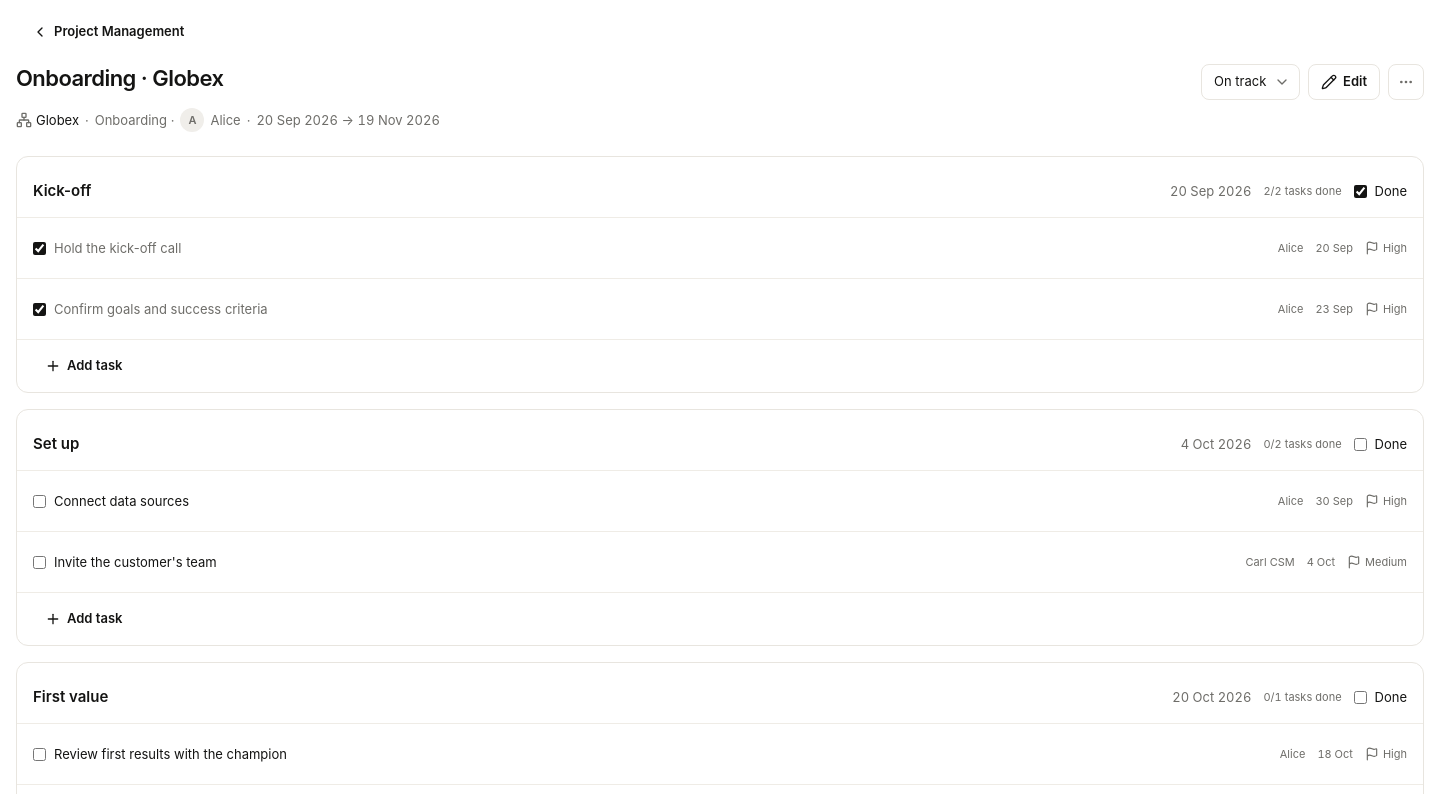
it: a plan (spec §2.3) › changes the status from the select, and shows the server's refusal
Expected: the heading "Plan" is not shown
Select "At risk" in the dropdown named "Status": (1250, 82) [1201, 64, 1300, 100]
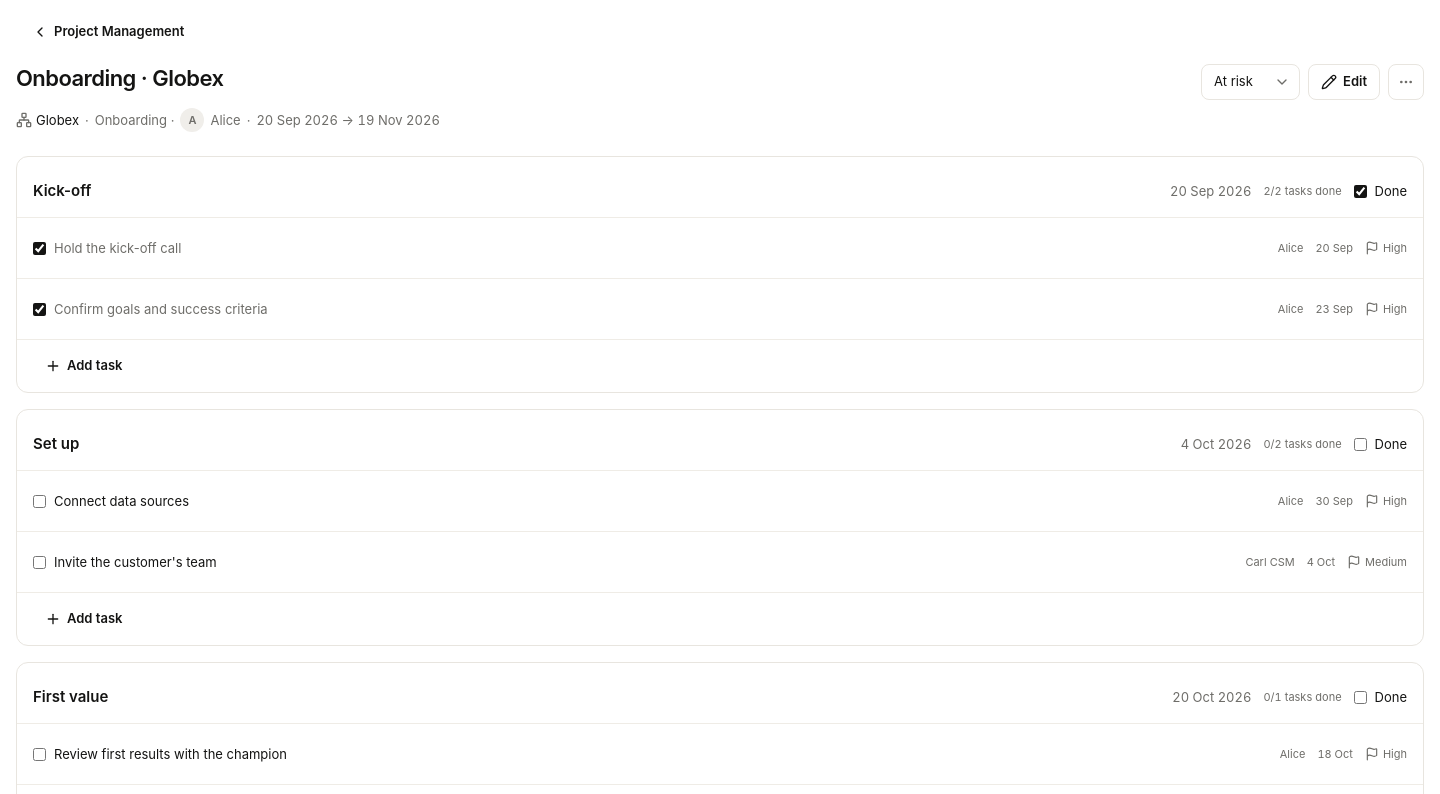
Select "On track" in the dropdown named "Status": (1250, 82) [1201, 64, 1300, 100]
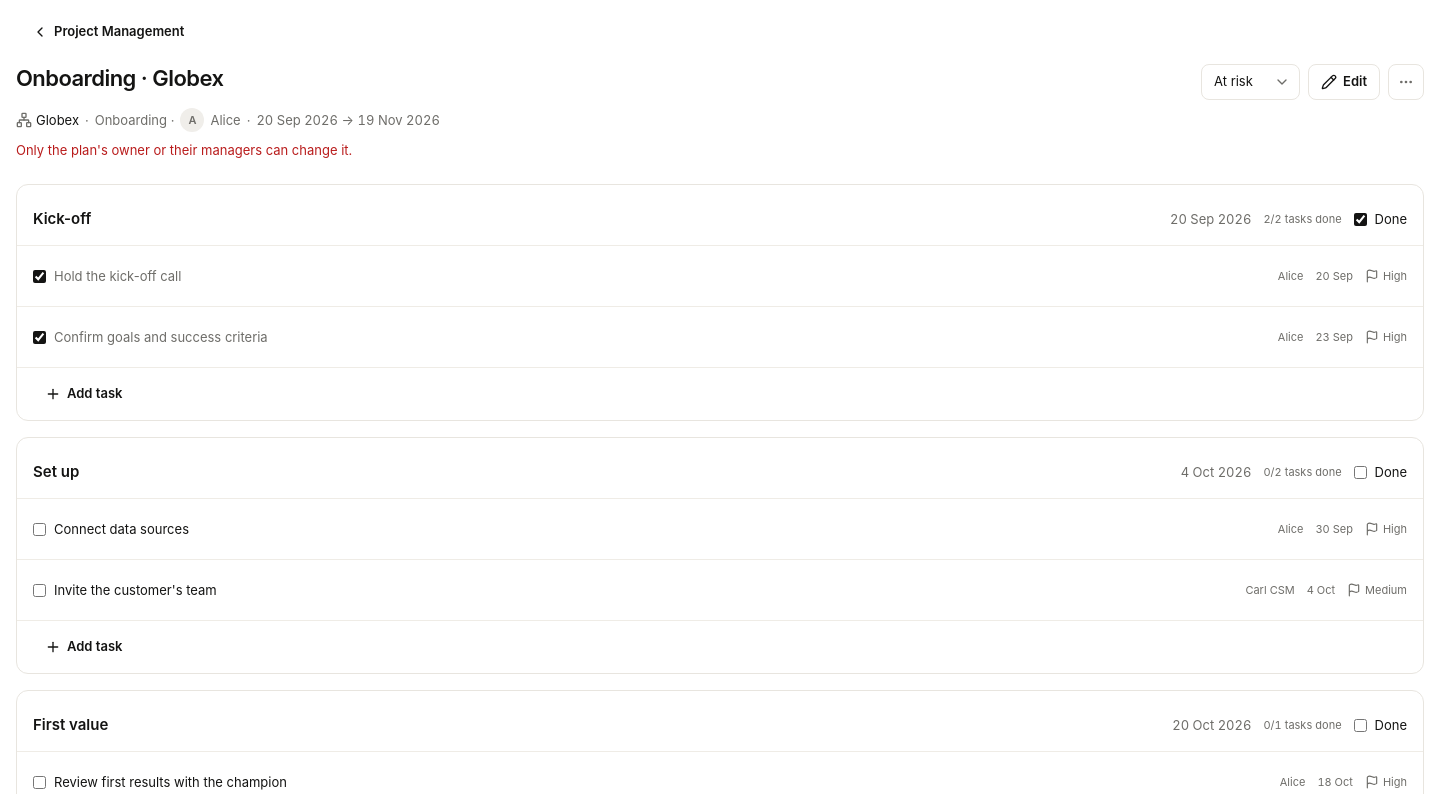
Now the message reads "Only the plan's owner or their managers can change it.", box [16, 142, 352, 158]
